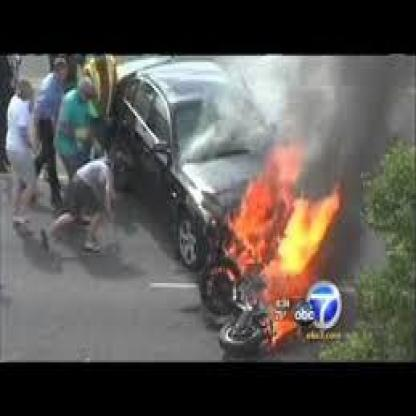fire: (189, 127, 346, 323)
